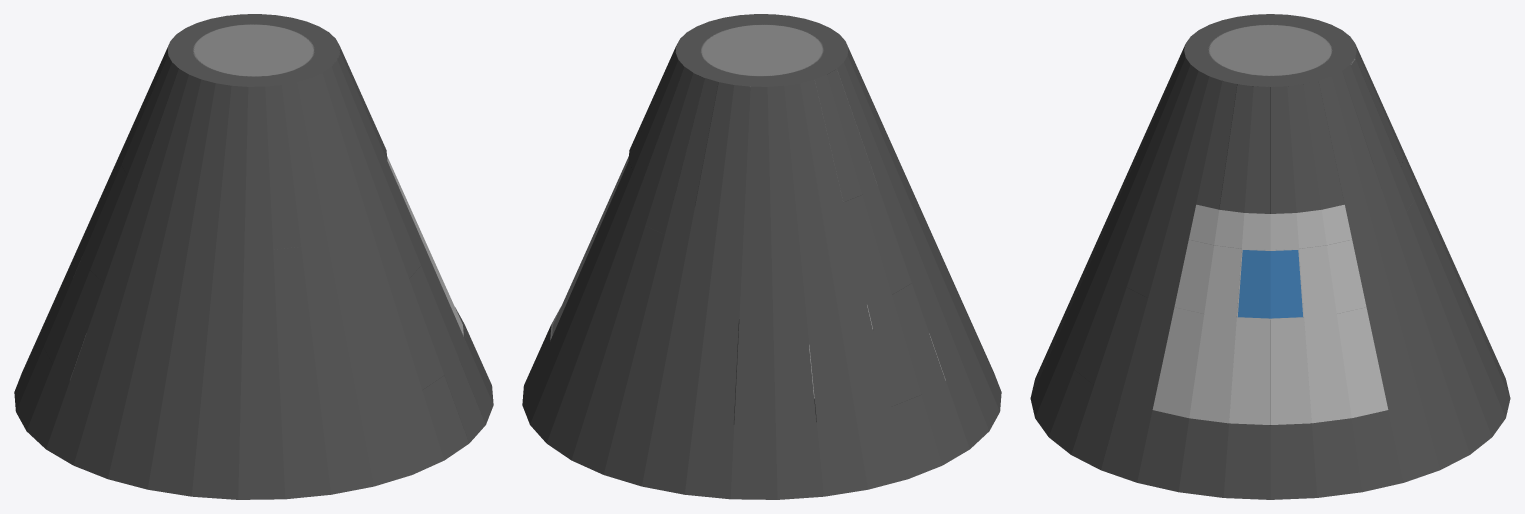
Rendered from 125manned.fbx.
3 renders of one model, left to right at view 1: azimuth 30°, elevation 25°; view 2: azimuth 150°, elevation 25°; view 3: azimuth 270°, elevation 25°, orthographic.
Parts seen in each view (by area): view 1: Cylinder.001; view 2: Cylinder.001; view 3: Cylinder.001.
Boxes of the visible parts, bbox=[...] form: Cylinder.001: bbox=[14, 14, 493, 499]; Cylinder.001: bbox=[522, 14, 1001, 499]; Cylinder.001: bbox=[1030, 14, 1510, 499].
Bounding box in the file's own units: 125 × 100 × 125.
